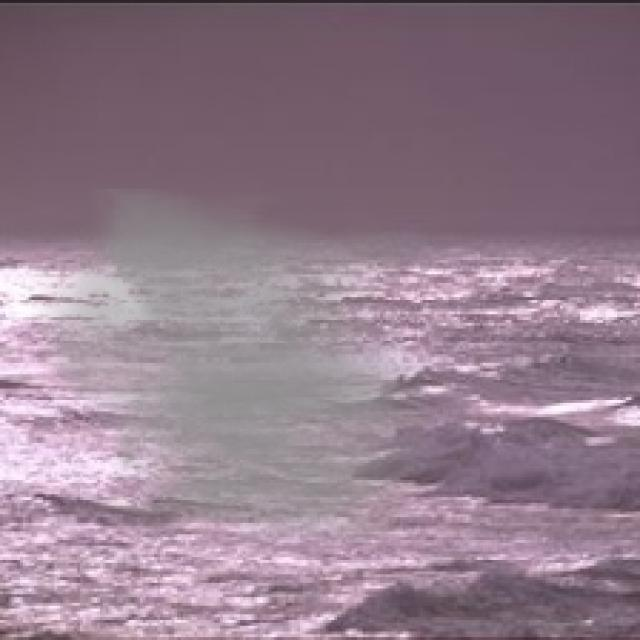Smoke: (22, 188, 428, 546)
